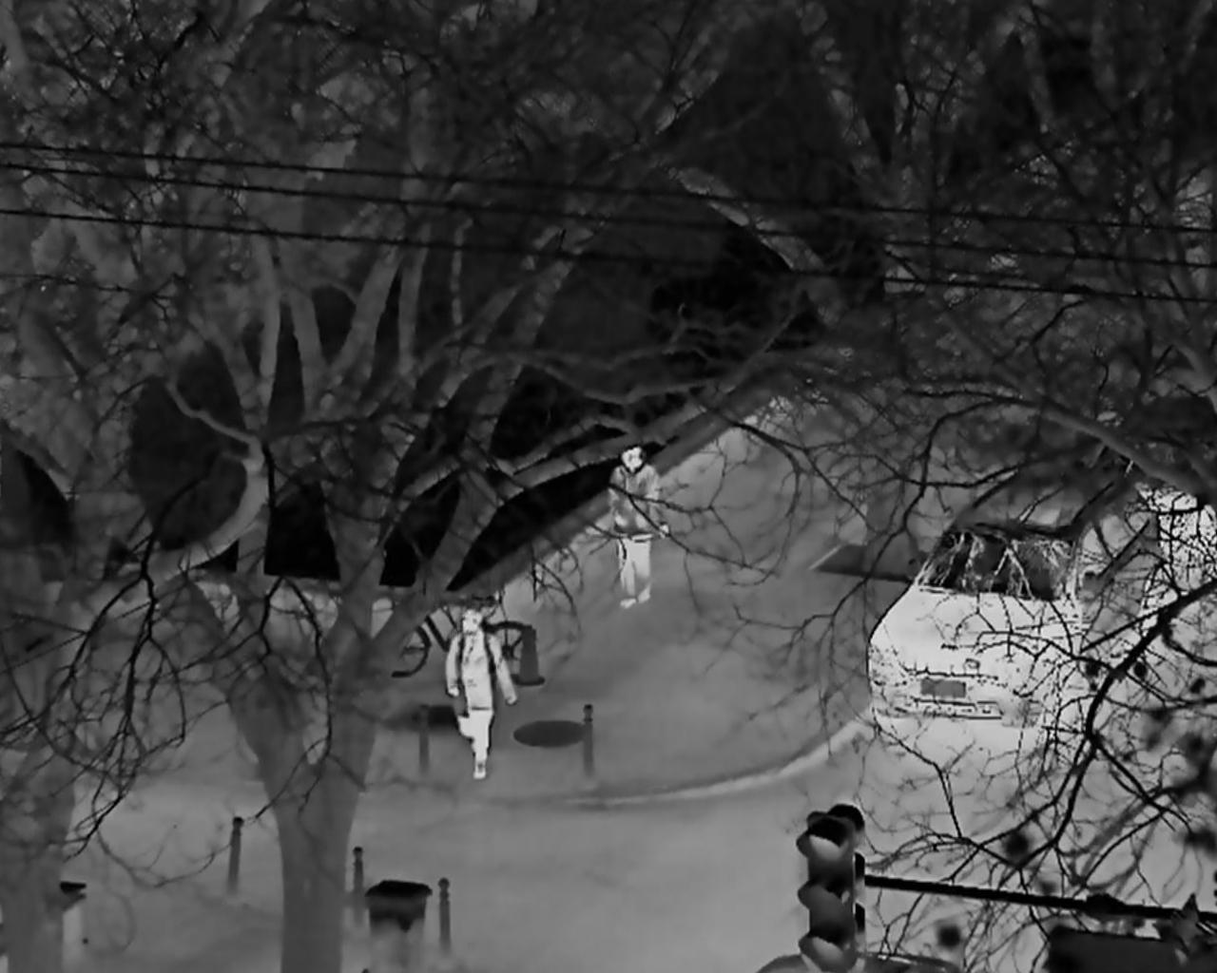person: (443, 609, 516, 778), (607, 447, 668, 610)
